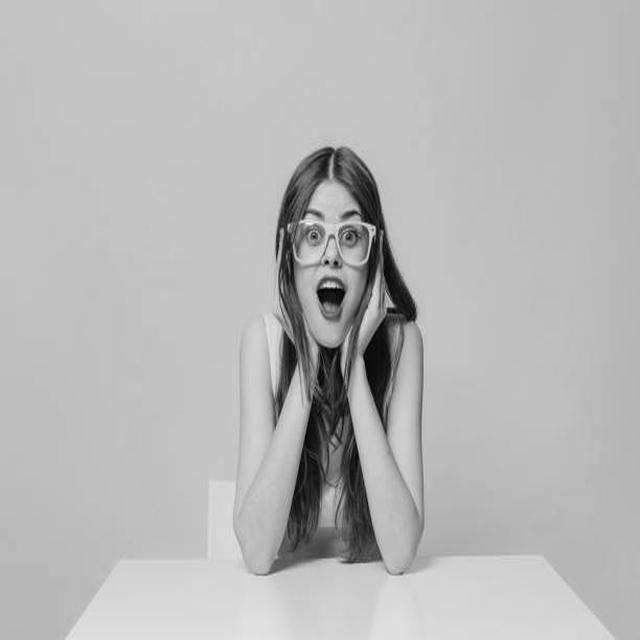Surprised: (293, 184, 368, 348)
